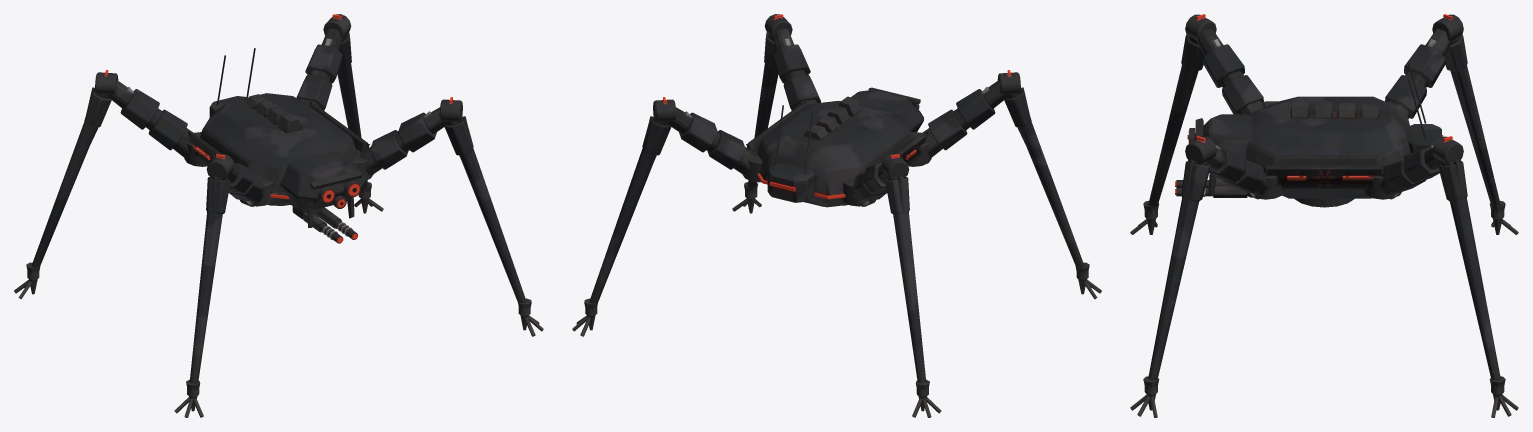
The model's file is hs_swarm_walker_lod0m.glb.
3 renders of one model, left to right at view 1: azimuth 30°, elevation 25°; view 2: azimuth 150°, elevation 25°; view 3: azimuth 270°, elevation 25°, orthographic. The views are drawn at different scales.
Size of the model in its own units: 7.39 by 4.49 by 6.29.
1 material, 1 textured.
